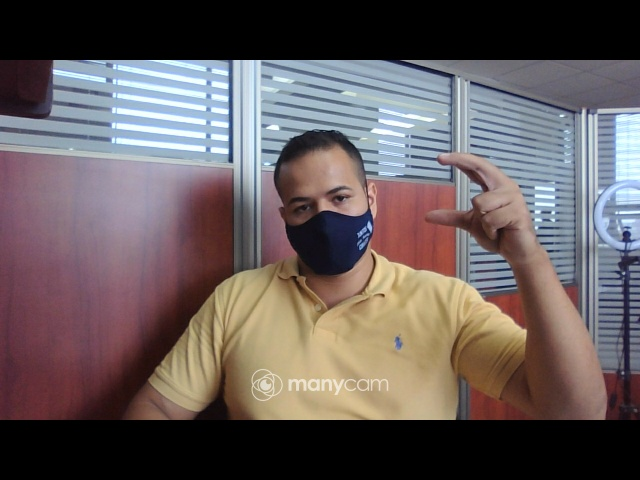No: (421, 150, 551, 256)
